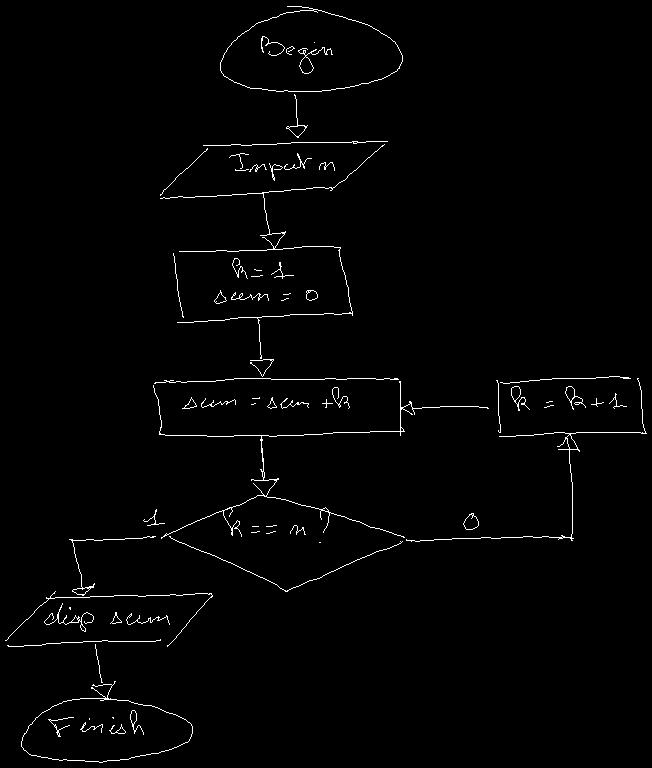arrow: (406, 433, 579, 541), (69, 536, 155, 595), (251, 436, 278, 496), (260, 193, 285, 248), (250, 318, 273, 376), (91, 644, 115, 698), (400, 401, 488, 414), (286, 94, 307, 137)
data: (160, 141, 387, 198), (5, 591, 212, 646)
decision: (161, 495, 404, 591)
process: (153, 378, 404, 436), (173, 246, 352, 322), (496, 376, 646, 436)
terminator: (220, 6, 402, 91), (21, 698, 192, 762)
text: (214, 258, 317, 303), (223, 507, 329, 542), (182, 387, 349, 408), (44, 603, 169, 631), (229, 153, 334, 180), (511, 386, 626, 410), (261, 36, 332, 73), (48, 710, 143, 736), (143, 509, 164, 525), (463, 513, 478, 529)
